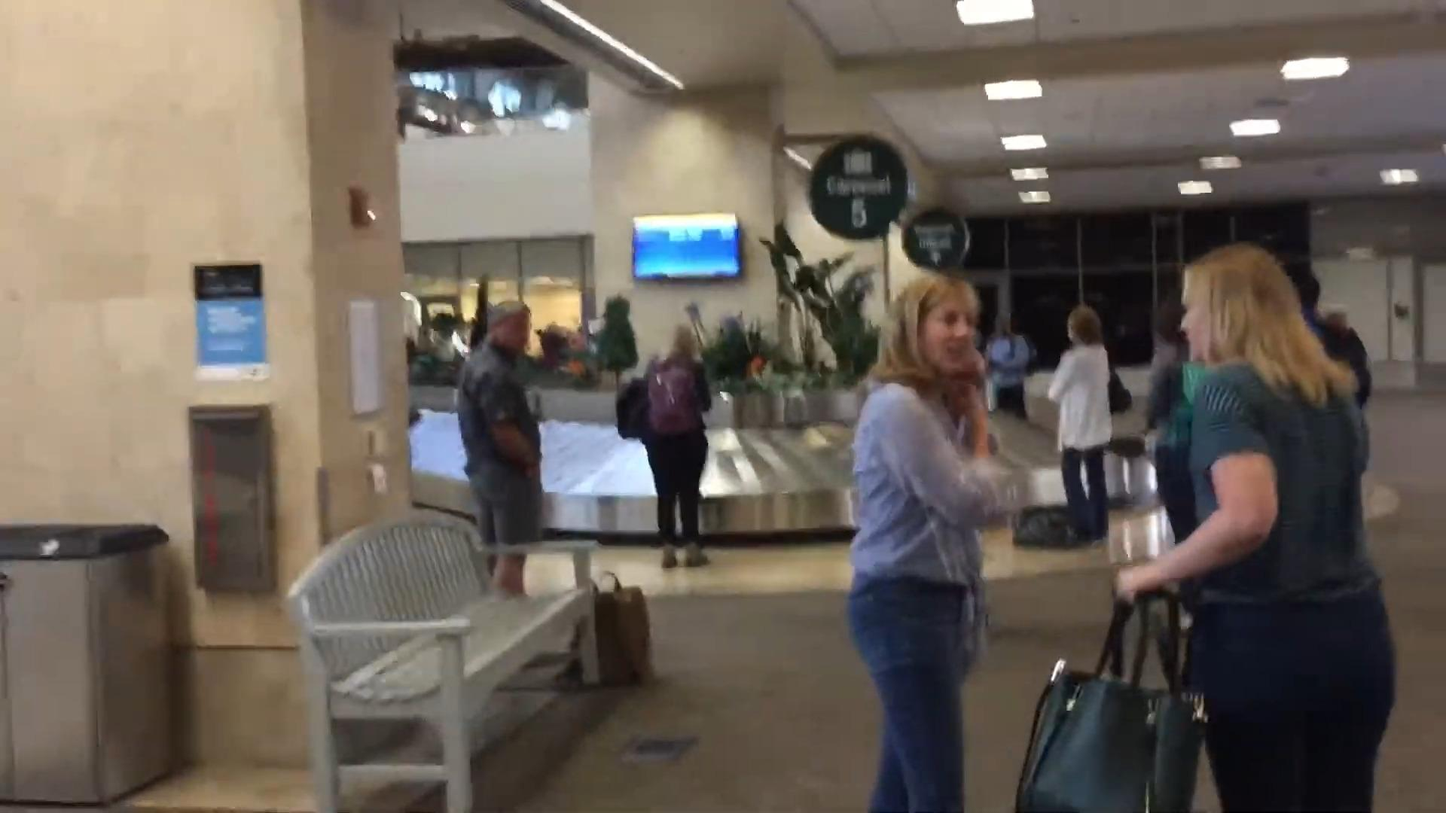luggage: (1012, 504, 1079, 548)
